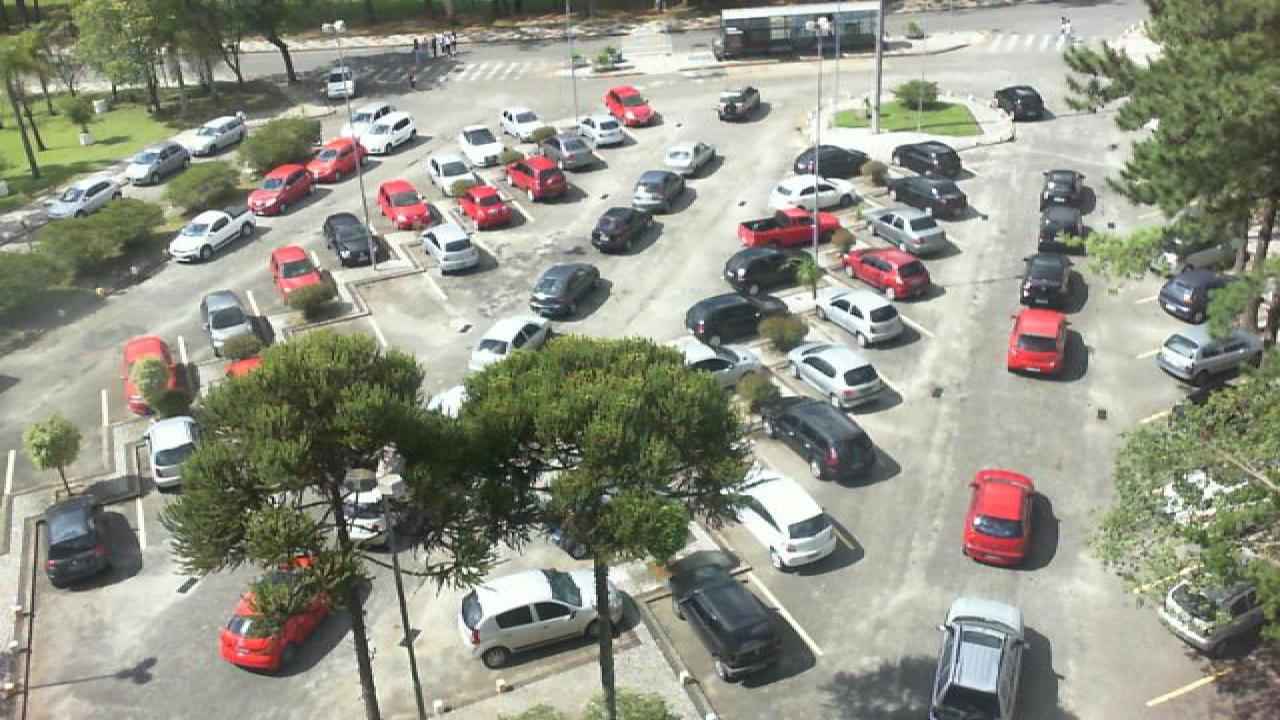Car: (658, 547, 798, 683), (454, 567, 614, 671), (216, 554, 336, 672), (928, 596, 1038, 720), (722, 467, 840, 569), (756, 393, 876, 481), (38, 496, 140, 591), (958, 468, 1042, 569), (1158, 580, 1266, 650), (788, 341, 888, 411), (1156, 320, 1260, 384), (116, 334, 186, 415), (684, 292, 786, 344), (198, 288, 270, 360), (816, 290, 908, 346), (660, 339, 764, 387), (164, 208, 252, 264), (1006, 306, 1074, 378), (470, 318, 556, 374), (846, 245, 932, 299), (142, 416, 202, 493), (734, 207, 838, 251), (864, 207, 950, 257), (1156, 264, 1230, 322), (722, 246, 810, 294), (266, 244, 336, 304), (530, 261, 600, 319), (244, 162, 316, 218), (886, 171, 964, 218), (416, 226, 486, 278), (770, 174, 860, 214), (320, 211, 382, 269), (36, 179, 124, 218), (1020, 251, 1078, 310), (112, 142, 190, 185), (504, 153, 568, 203), (176, 112, 248, 156), (454, 181, 516, 231), (590, 205, 654, 253), (374, 178, 432, 229), (308, 135, 366, 185), (424, 150, 488, 194), (792, 143, 868, 179), (890, 142, 962, 179), (1032, 206, 1086, 255), (548, 125, 604, 171), (354, 111, 416, 152), (632, 168, 686, 214), (454, 124, 508, 168), (1040, 168, 1090, 214), (602, 83, 654, 127), (502, 130, 556, 170), (660, 140, 714, 178), (992, 86, 1048, 120), (716, 86, 764, 121), (498, 104, 548, 136), (320, 66, 358, 100)
